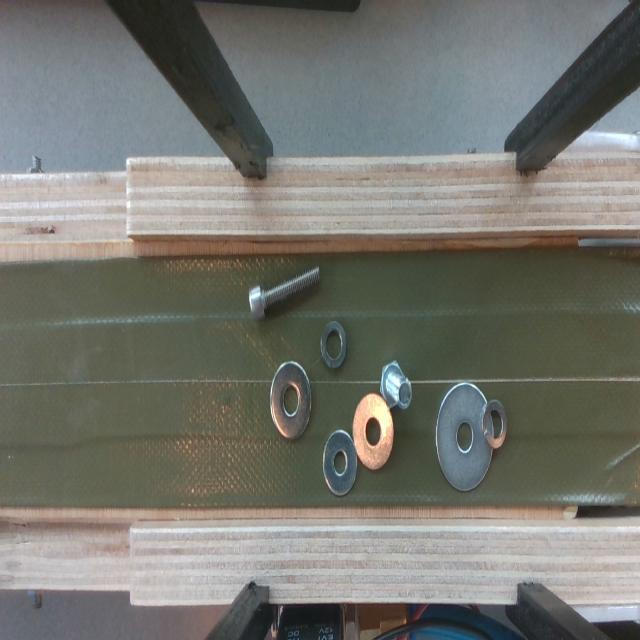Bolt: (249, 266, 320, 319), (380, 362, 411, 409)
washer: (436, 383, 492, 491), (270, 362, 311, 440), (352, 393, 394, 467), (322, 431, 358, 496), (480, 400, 506, 450), (320, 321, 346, 369), (489, 421, 494, 435)
